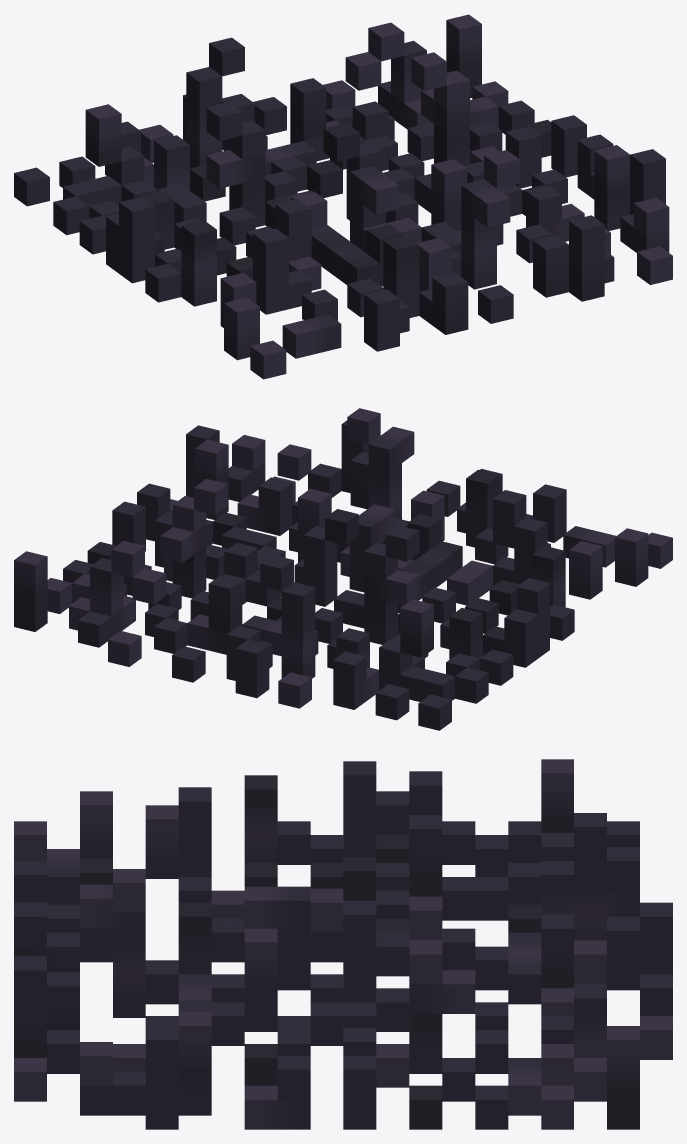
Rendered from Graveyard_grass.dae.
3 renders of one model, top to bottom at view 1: azimuth 30°, elevation 25°; view 2: azimuth 150°, elevation 25°; view 3: azimuth 270°, elevation 25°, orthographic. The views are drawn at different scales.
Visible parts, largest first — view 1: Graveyard_grass; view 2: Graveyard_grass; view 3: Graveyard_grass.
Part boxes in pixels (x1,y1,x2,y2): Graveyard_grass: [14, 14, 672, 379]; Graveyard_grass: [14, 408, 672, 730]; Graveyard_grass: [14, 759, 672, 1129].
Size of the model in its own units: 20 by 5 by 20.
Materials: 1 (1 with a texture image).
